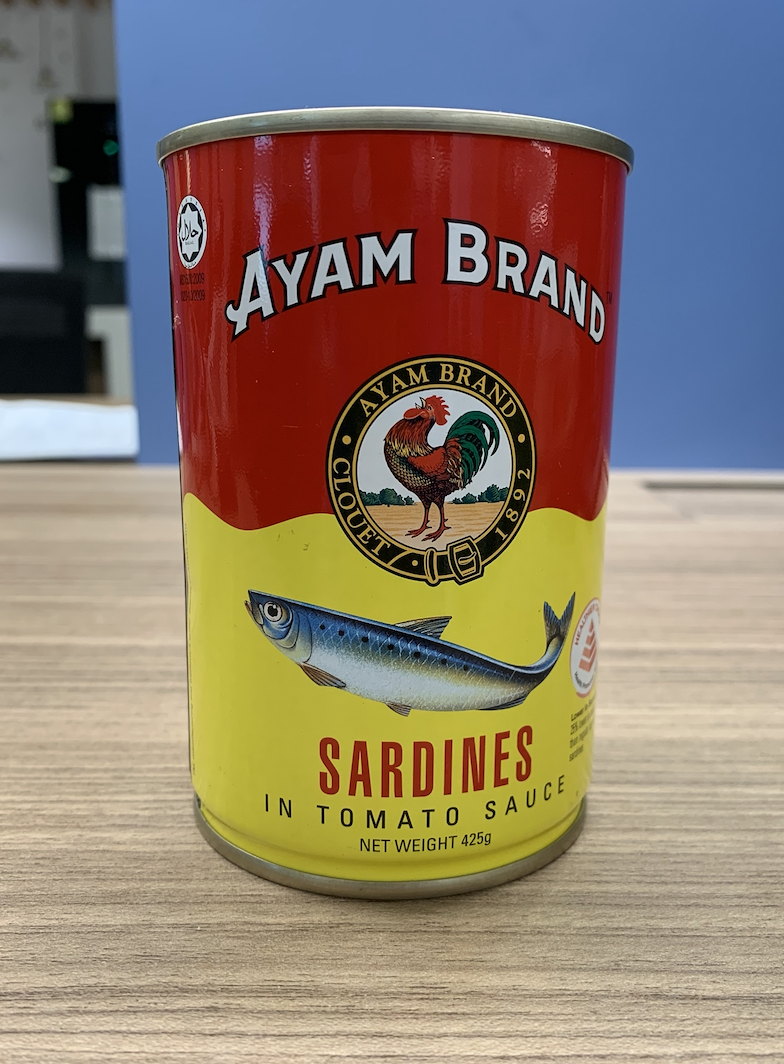sardines_400g-499g: (168, 144, 599, 865)
